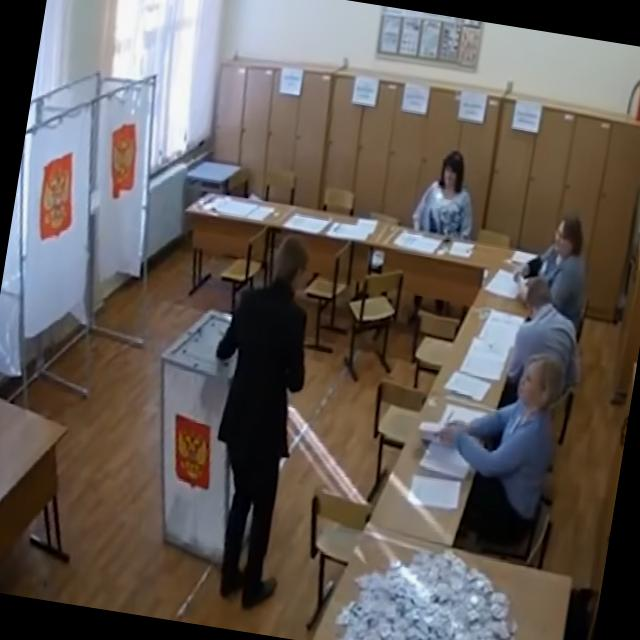person: (178, 227, 332, 608), (421, 340, 570, 554), (396, 147, 485, 330), (498, 274, 595, 419), (506, 206, 596, 332)
